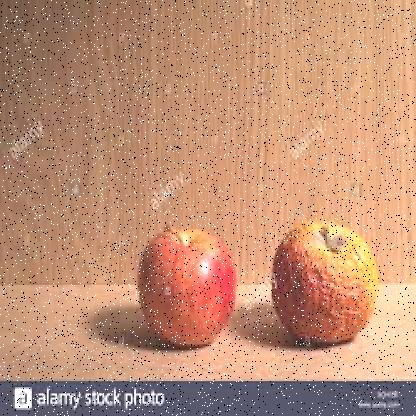apple: (130, 228, 238, 344)
damaged_apple: (266, 228, 382, 344)
